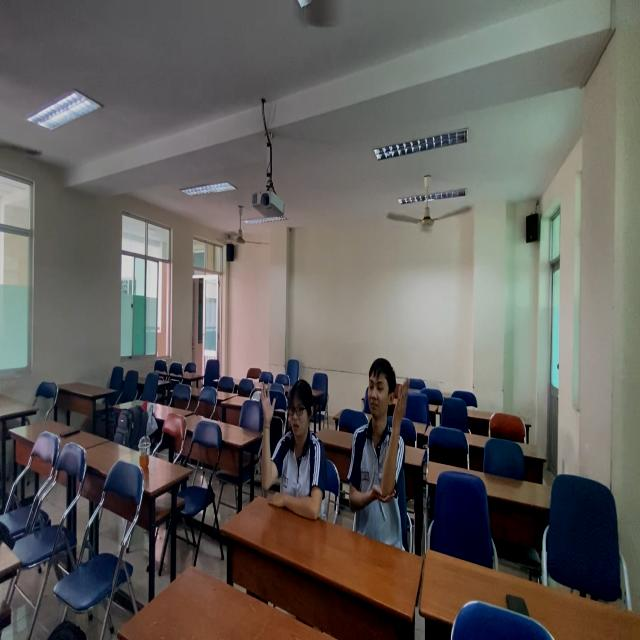raise_hand: (347, 351, 415, 549), (259, 364, 329, 523)
